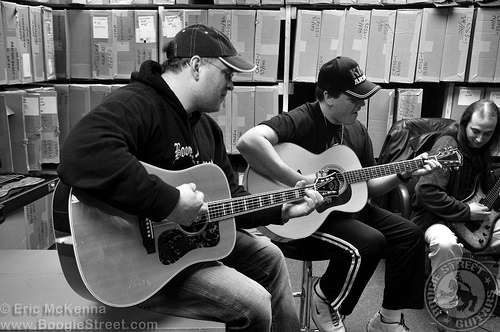guitar: (51, 160, 340, 309), (243, 141, 465, 243)
